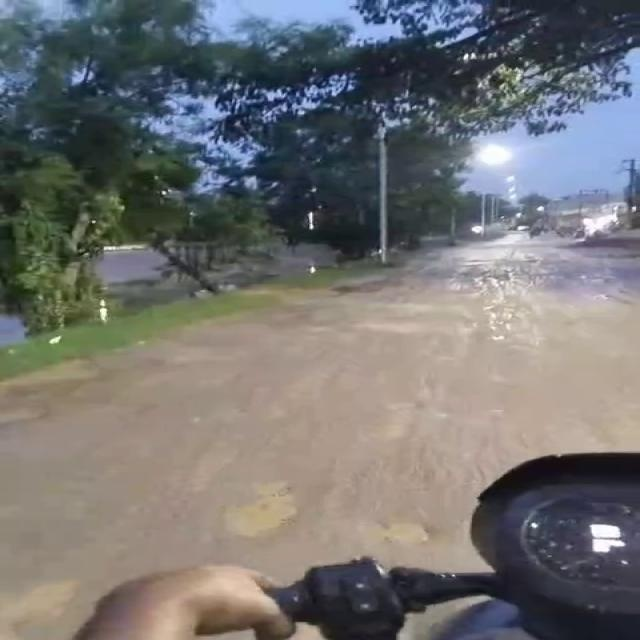pothole: (218, 485, 302, 546), (0, 571, 76, 626), (372, 518, 439, 552), (382, 399, 431, 412)
